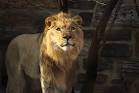lion: (7, 12, 85, 93)
